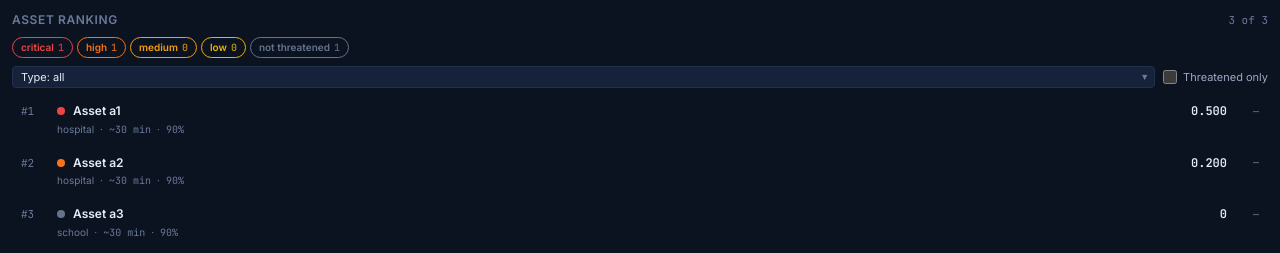
Test: RankedList › renders all rows and filters by tier
Check: the text "Asset a1" is shown, box left=73, top=103, right=121, bottom=118
Check: the text "Asset a3" is shown, box left=73, top=206, right=124, bottom=221
Step 1. Click the button "not threatened 1" → (299, 47), box left=250, top=36, right=349, bottom=58
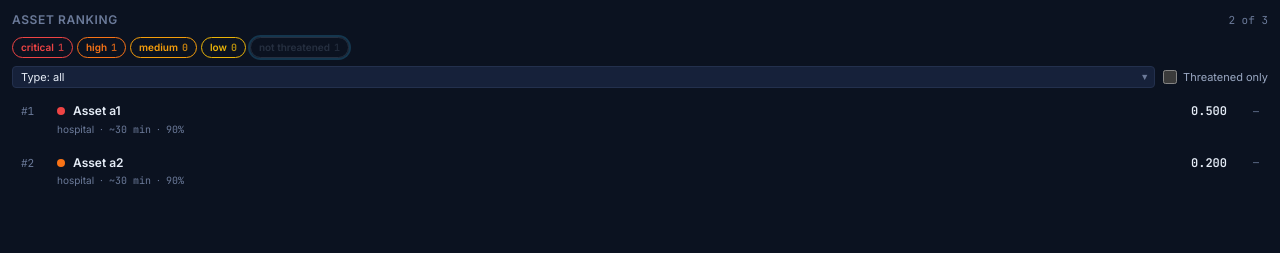
Check: the text "Asset a1" is shown, box left=73, top=103, right=121, bottom=118
Check: the button "Asset a3" is gone
